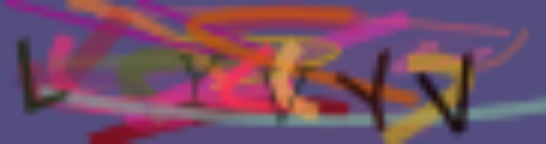L: (13, 35, 68, 114)
V: (413, 51, 476, 139), (257, 63, 318, 128)
Y: (333, 48, 396, 135), (169, 49, 227, 110)
